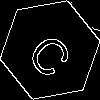C: (25, 25, 81, 82)
